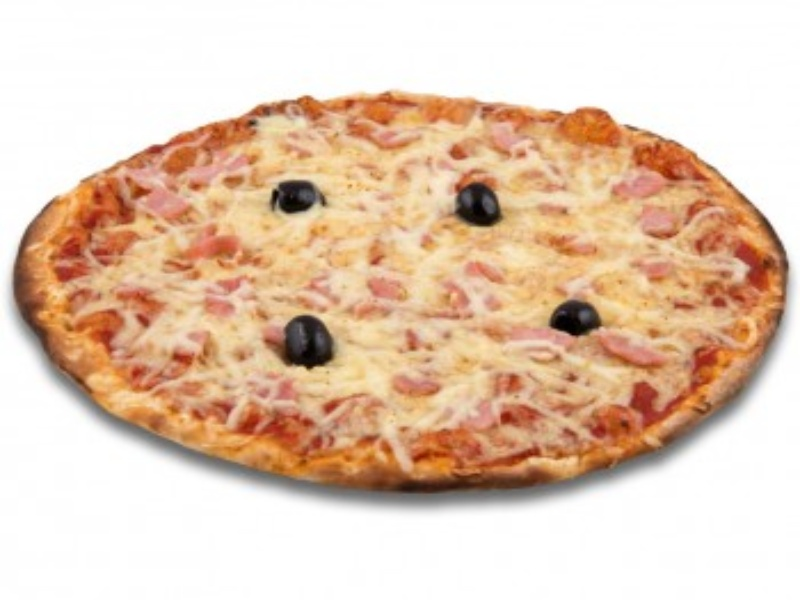olive noir: (283, 312, 340, 368), (447, 186, 505, 230), (267, 179, 328, 216), (553, 294, 602, 337)
